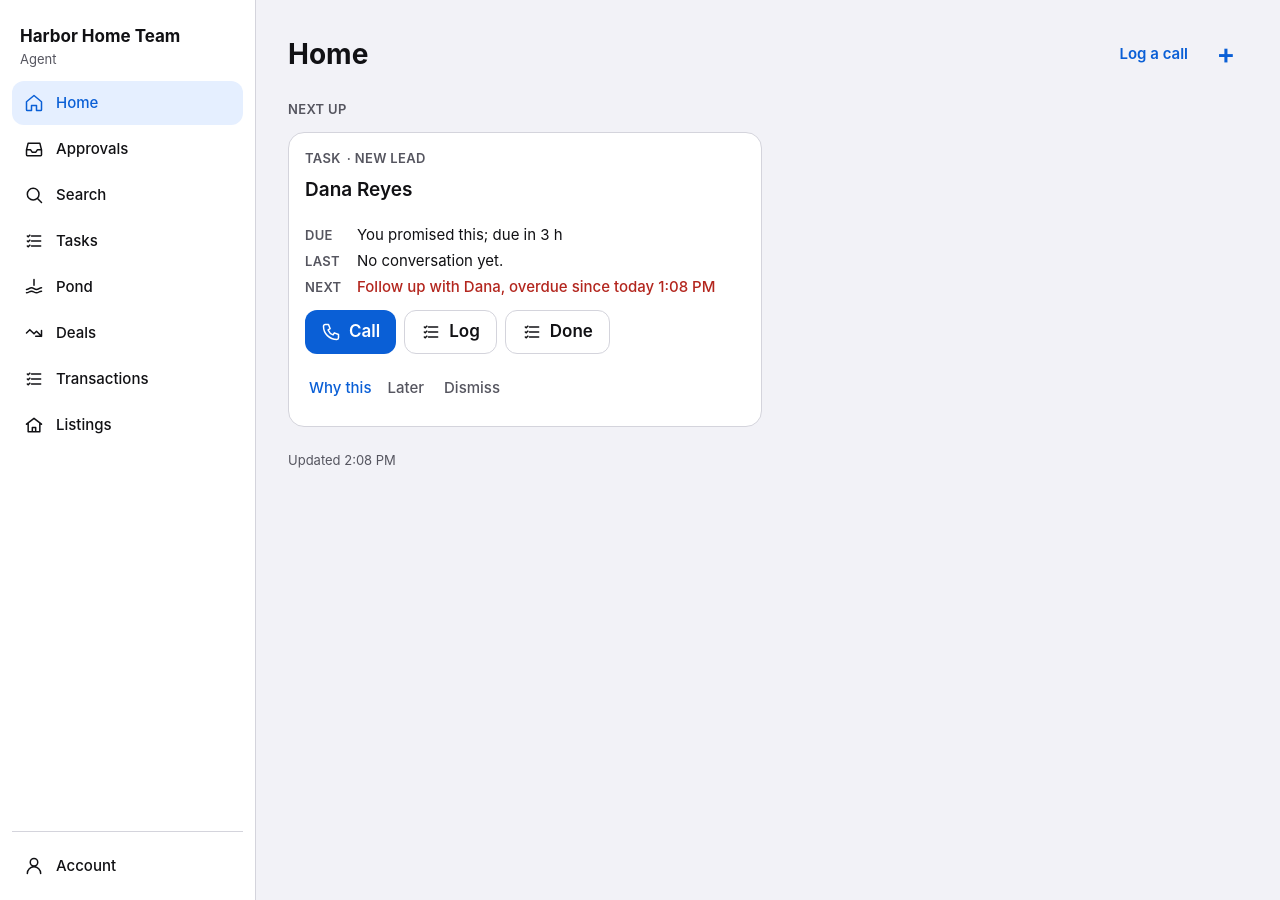
R-TODAY-7: one pass from a follow-up card on Today › E853: a due "Follow up with …" task the card is about is marked done by the same button when a new follow-up is set, and the sheet says so before the tap; a pro
Step 1. Click the button with aria-label "Log for Dana Reyes" → (450, 332), box [404, 310, 497, 354]
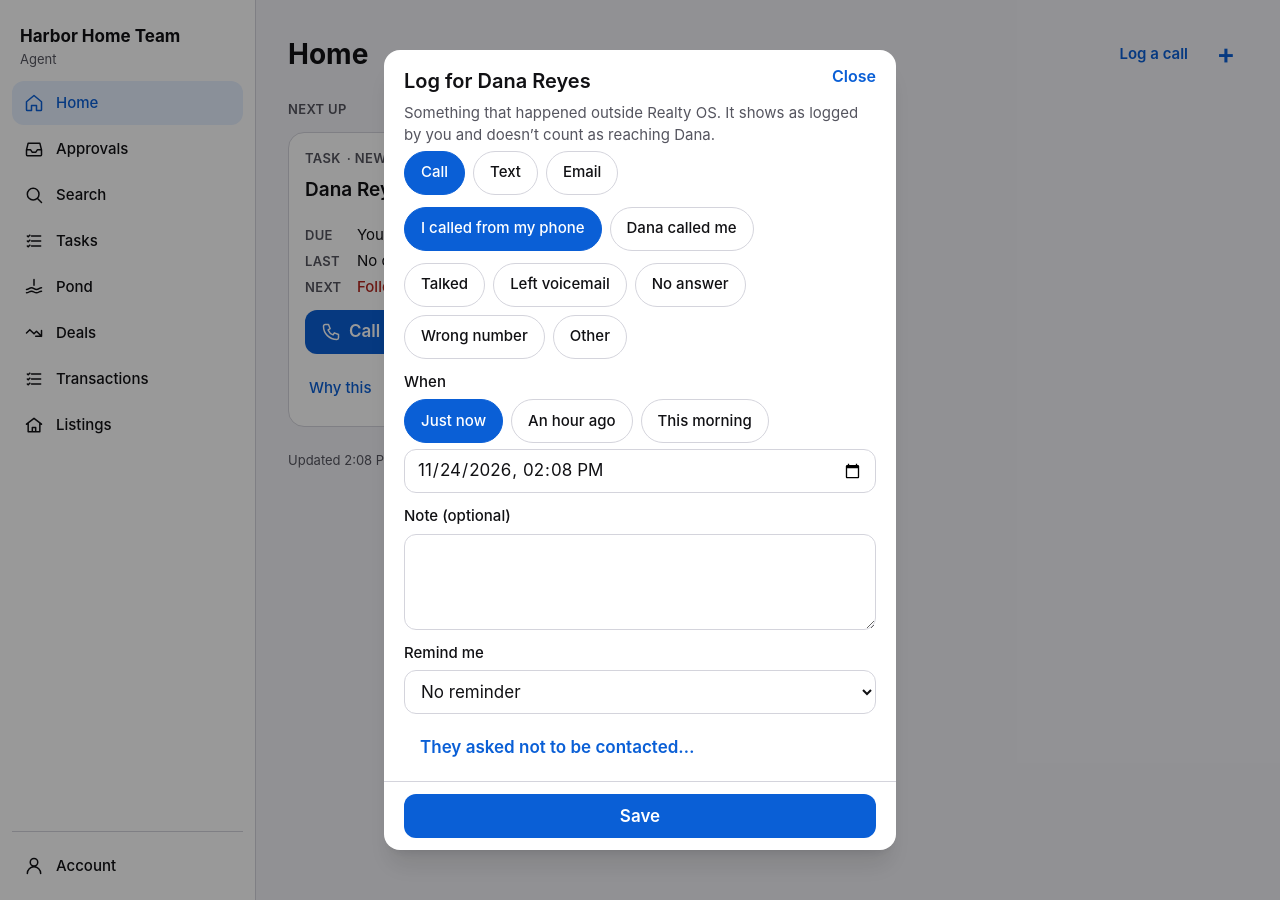
Step 2. Click the button "Left voicemail" → (560, 285), box [493, 263, 627, 307]
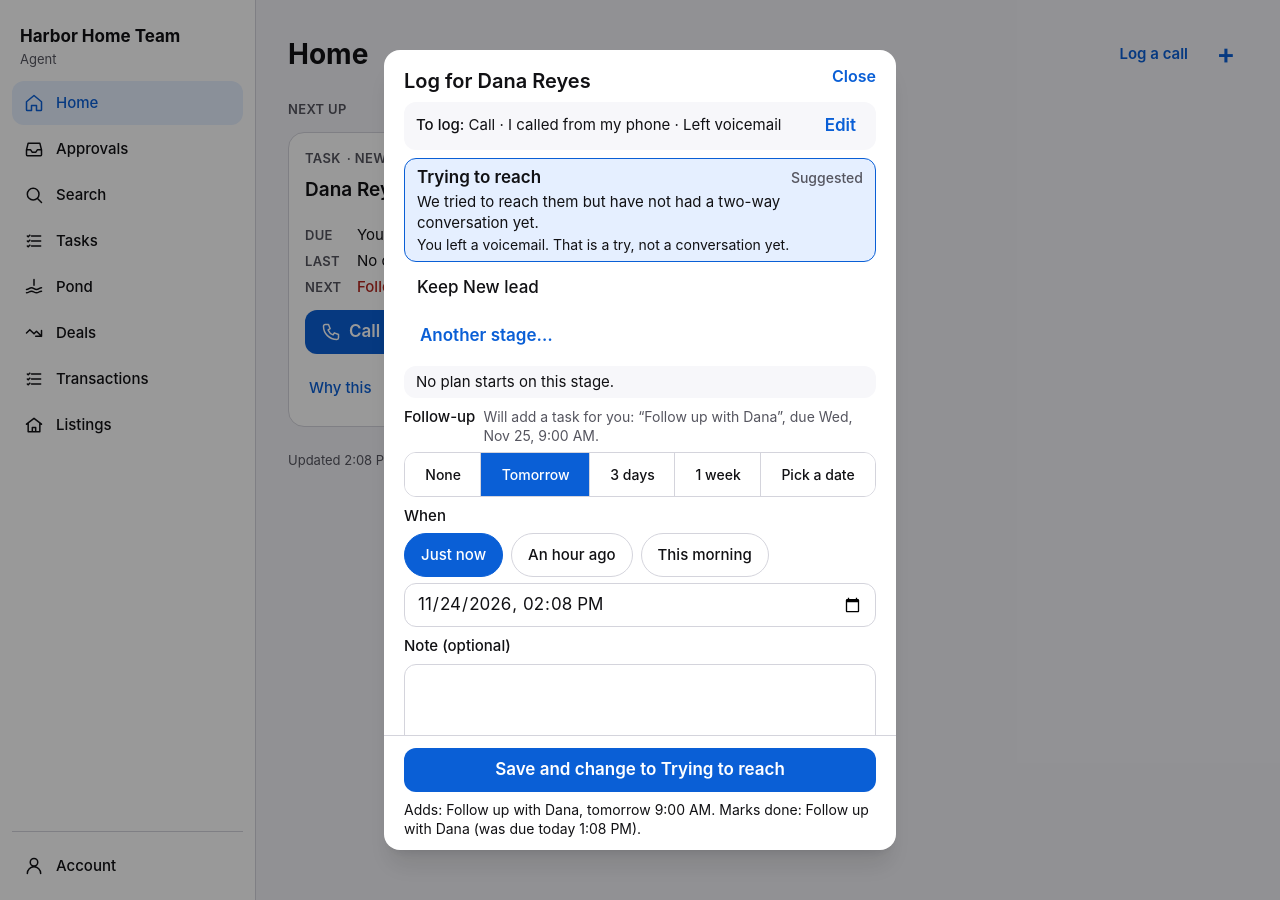
Expected: the button "Save and change to Trying to reach" is enabled
Expected: the radio button labelled "Trying to reach Suggested" is shown, [404, 158, 876, 262]
Step 3. Click the button "Save and change to Trying to reach" → (640, 770), box [404, 748, 876, 792]
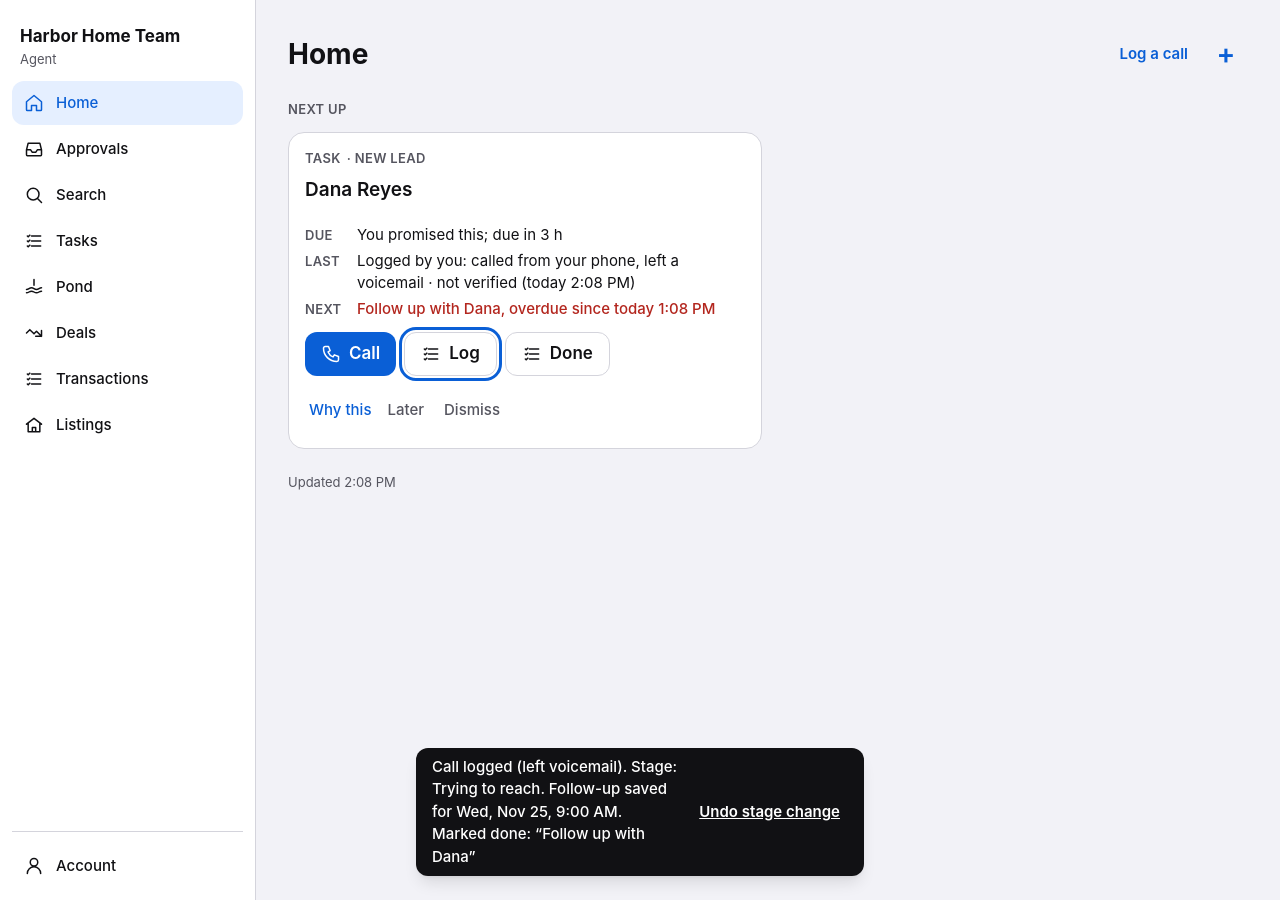
Expected: the dialog is gone
Expected: the button "Undo stage change" is shown, [691, 790, 848, 834]
